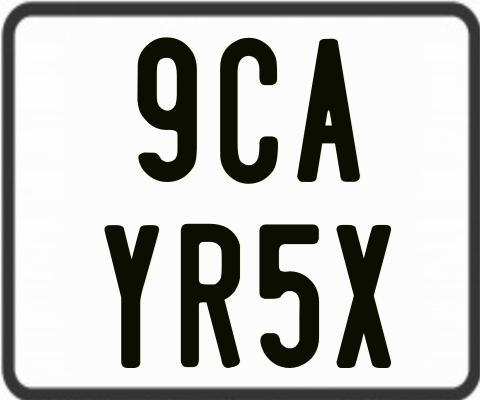5: (257, 224, 323, 374)
9: (135, 35, 198, 182)
A: (297, 37, 362, 182)
C: (220, 36, 281, 187)
R: (180, 221, 243, 365)
X: (334, 223, 388, 369)
Y: (105, 223, 165, 368)
